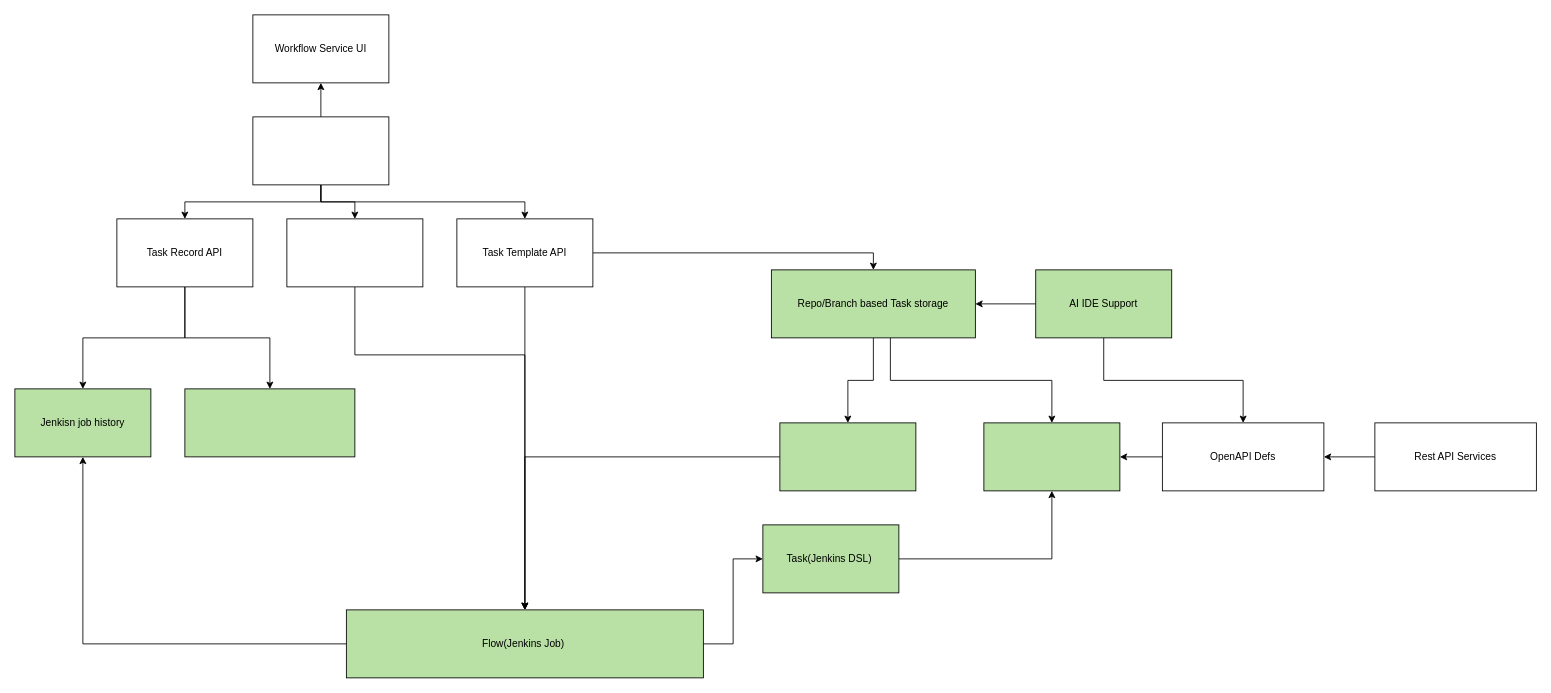
Some shapes in this 1551 by 693 pixel diagram are drawn without their labels. Each missing label, with the centre of its shape:
"Groovy Libs" belongs at [1051,456].
"Jenkinsfiles" belongs at [847,456].
"Task Execute API" belongs at [354,252].
"Task Record Repo" belongs at [269,422].
"Workflow API" belongs at [320,150].
